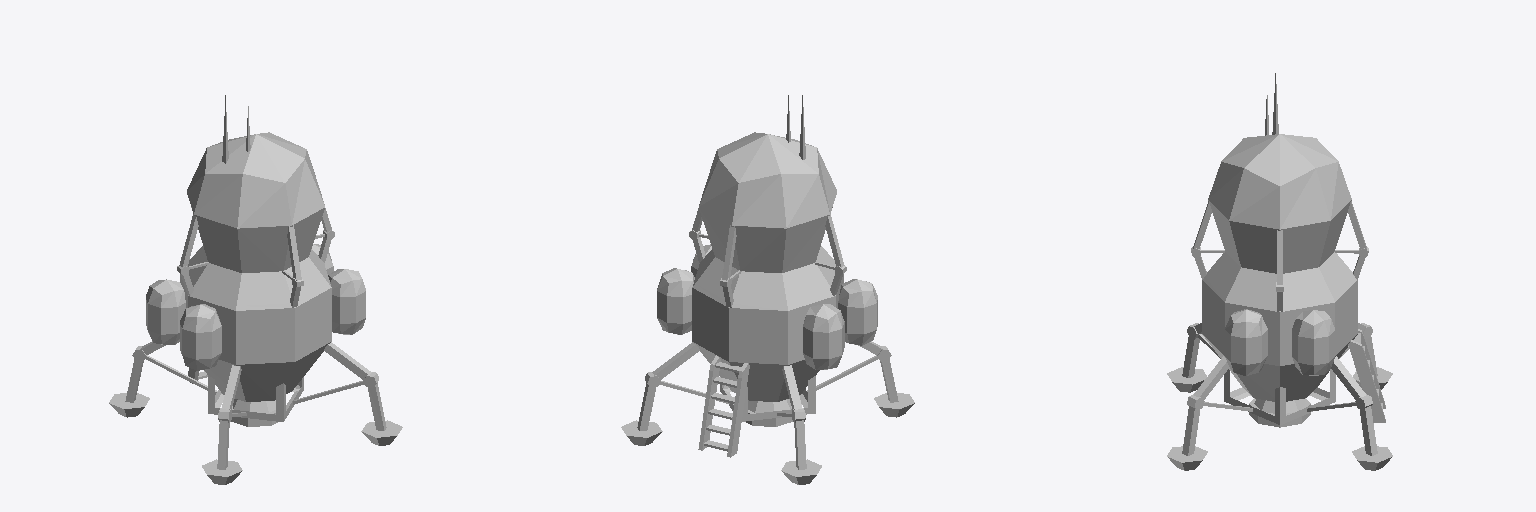
Rendered from land.obj.
3 views of the same model, side by side, from view 1: azimuth 30°, elevation 25°; view 2: azimuth 150°, elevation 25°; view 3: azimuth 270°, elevation 25° (orthographic).
Visible parts, largest first — view 1: 登录器.1; view 2: 登录器.1; view 3: 登录器.1.
Part boxes in pixels (x1,y1,x2,y2): 登录器.1: (109,95,402,484); 登录器.1: (621,95,914,484); 登录器.1: (1167,73,1392,470).
Size of the model in its own units: 938 by 1566 by 938.